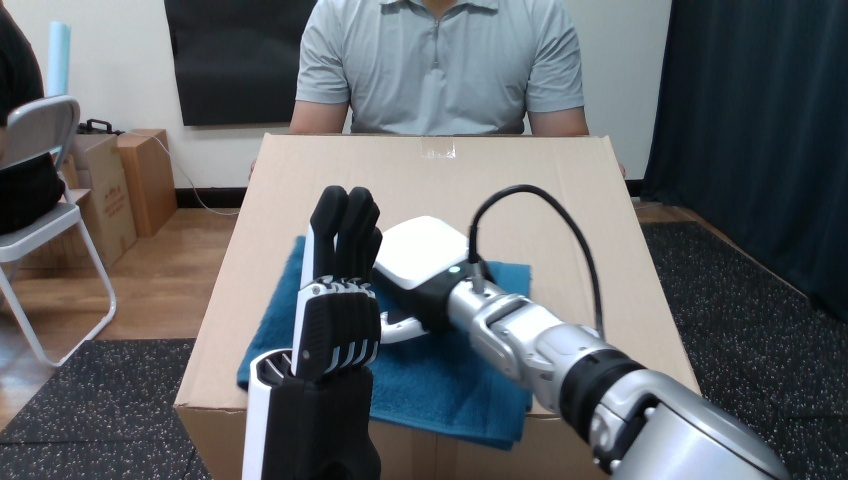left robot hand: (242, 185, 788, 478), (476, 192, 597, 329)
